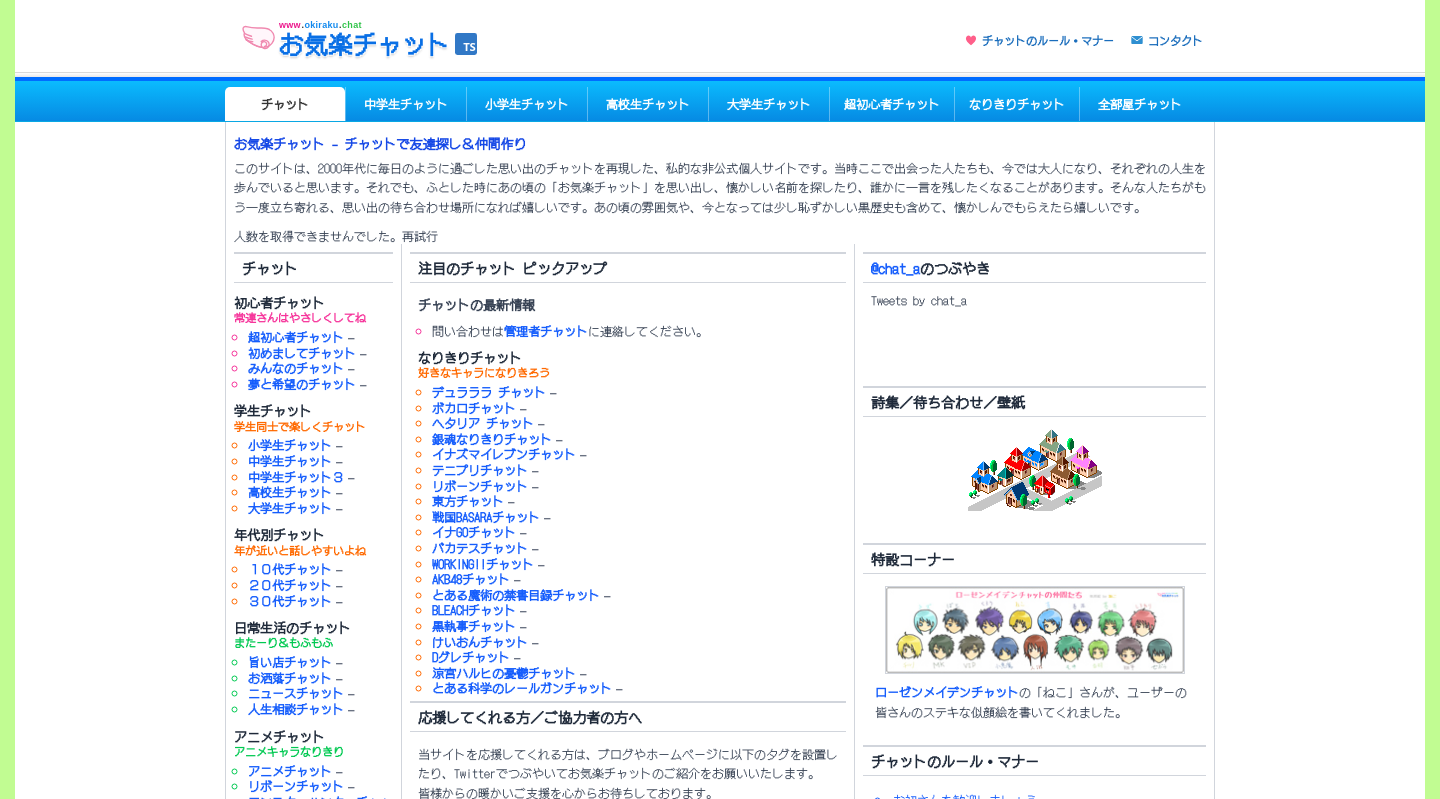
Test: 取得失敗を0人へ変換せず、明示retryの成功で0人を表示する
The width and height of the screenshot is (1440, 799).
Expected: the 1st text titled "人数は未取得です" is shown, [348,328,354,345]
Click the button "再試行" at (420, 236), box [402,228,438,244]
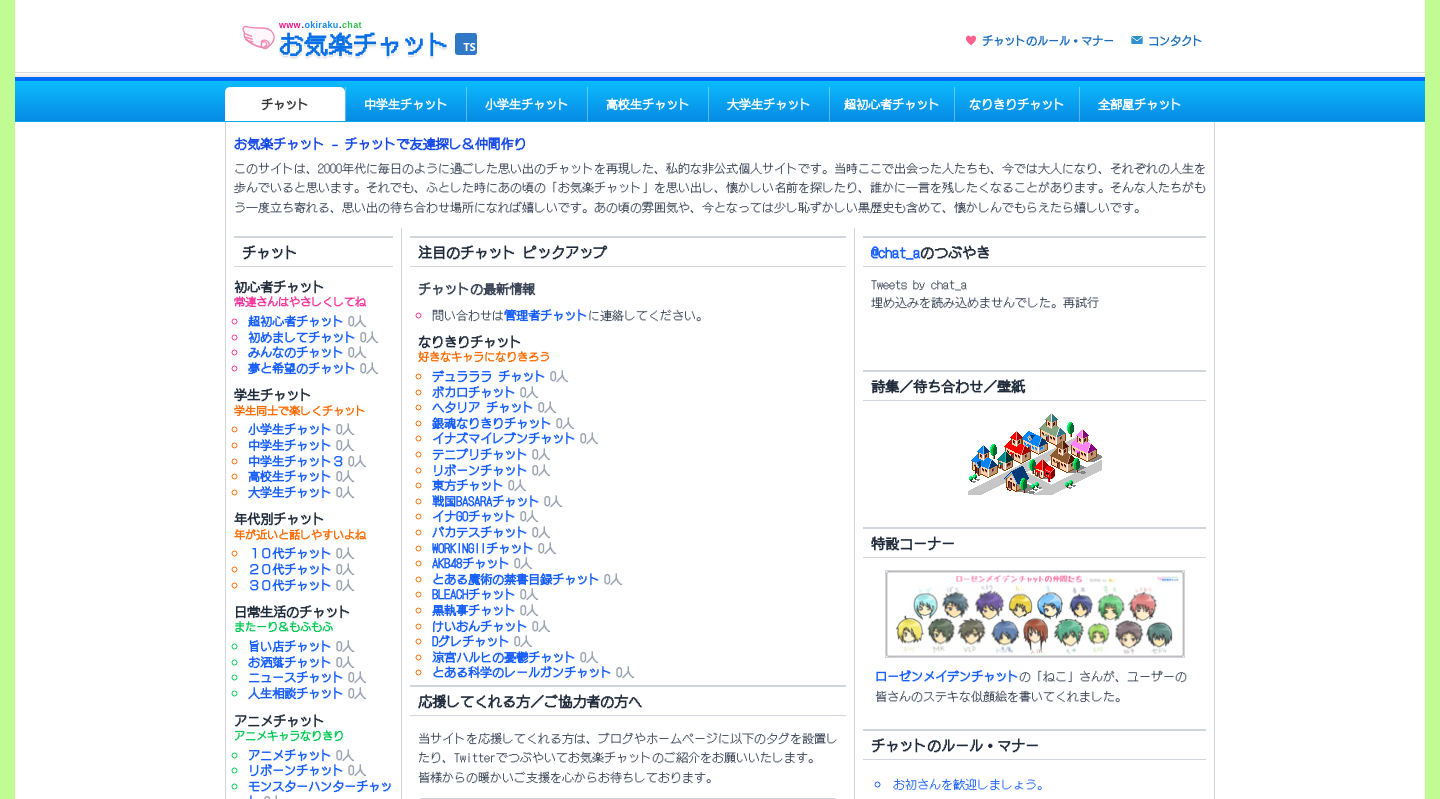
Expected: the 1st text "0人" is shown, [348,312,366,329]
